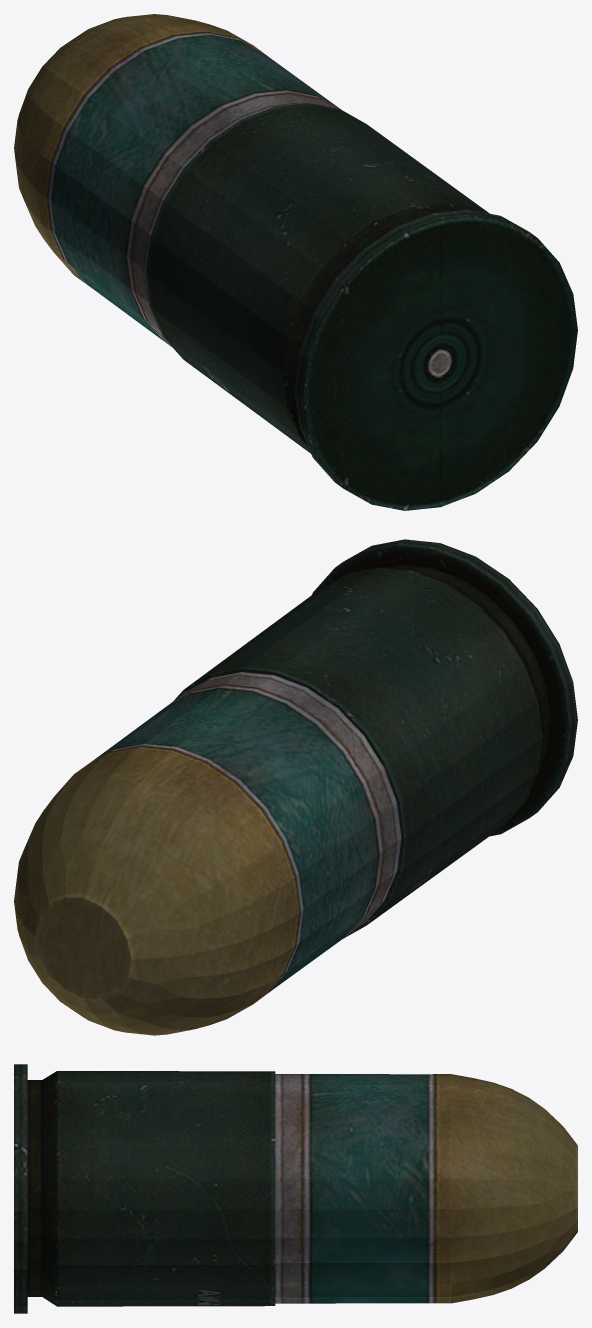
3 views of the same model, one above another, from view 1: azimuth 30°, elevation 25°; view 2: azimuth 150°, elevation 25°; view 3: azimuth 270°, elevation 25° (orthographic). The views are drawn at different scales.
Parts seen in each view (by area): view 1: TW_5f0c892565703e5c461894e9_PZ_Import; view 2: TW_5f0c892565703e5c461894e9_PZ_Import; view 3: TW_5f0c892565703e5c461894e9_PZ_Import.
Boxes of the visible parts, bbox=[...] form: TW_5f0c892565703e5c461894e9_PZ_Import: bbox=[14, 14, 577, 510]; TW_5f0c892565703e5c461894e9_PZ_Import: bbox=[14, 539, 577, 1035]; TW_5f0c892565703e5c461894e9_PZ_Import: bbox=[14, 1064, 577, 1313].
Size of the model in its own units: 0.025 by 0.0563 by 0.025.
Materials: 1 (1 with a texture image).
